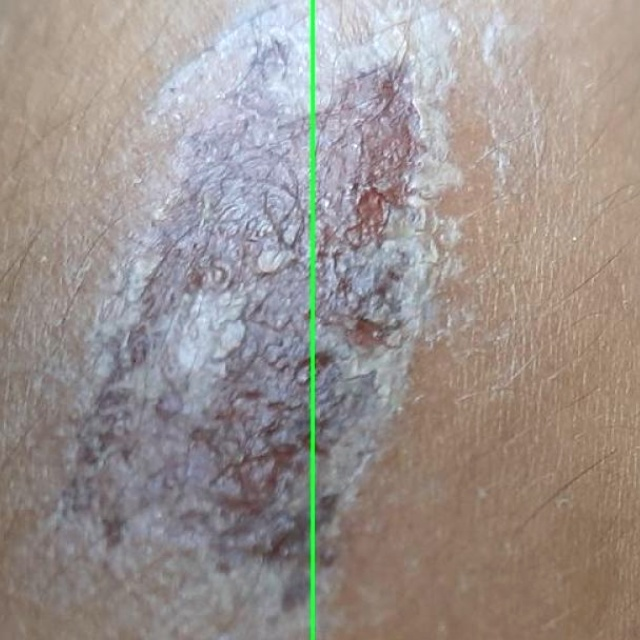Atopic Dermatitis: (312, 0, 639, 639)
